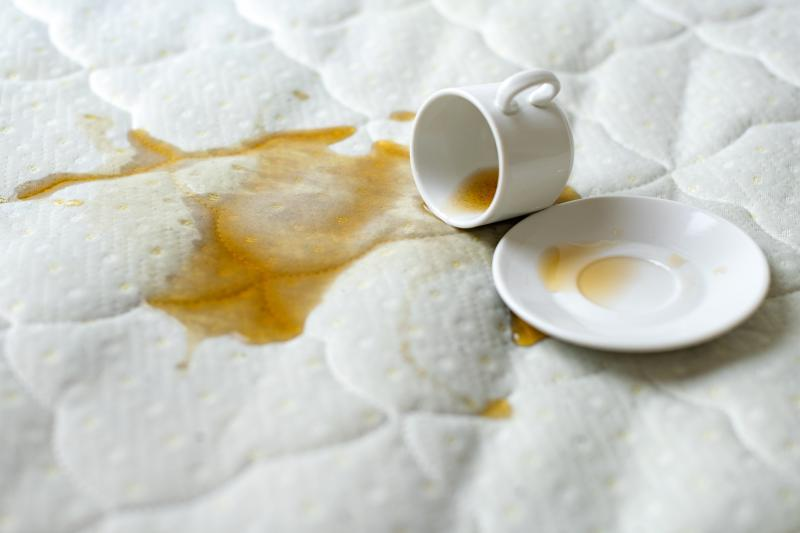gun: (13, 106, 410, 359), (455, 390, 519, 422)
